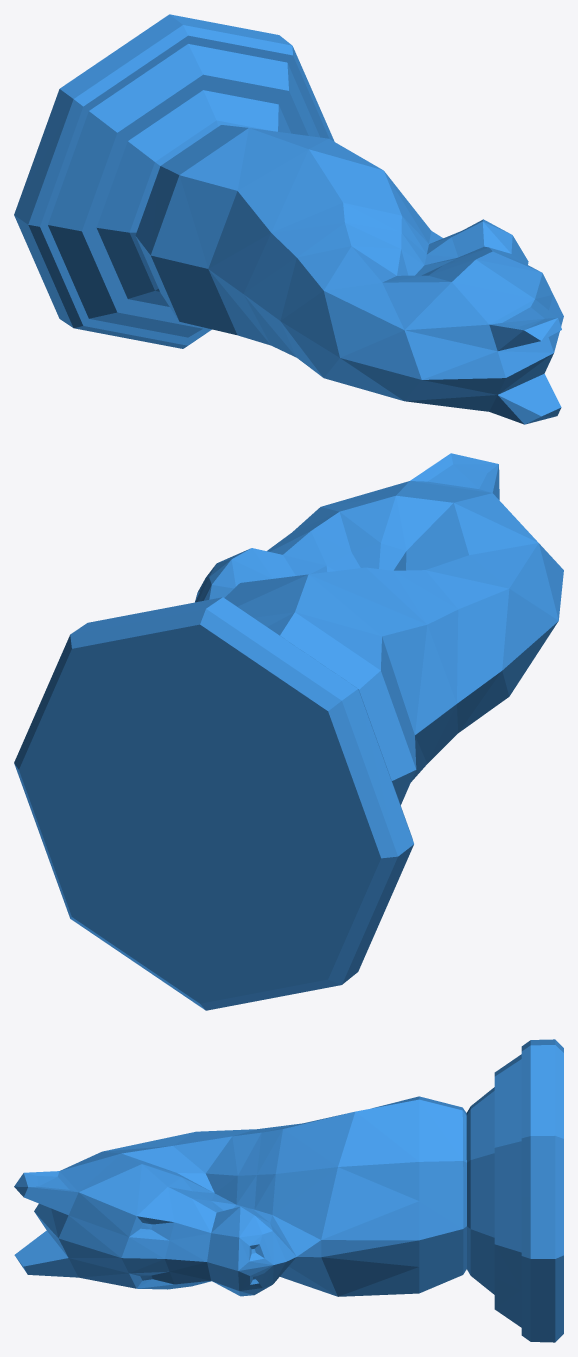
File: chess_horse.obj
3 renders of one model, top to bottom at view 1: azimuth 30°, elevation 25°; view 2: azimuth 150°, elevation 25°; view 3: azimuth 270°, elevation 25°, orthographic. The views are drawn at different scales.
Visible parts, largest first — view 1: Object.1; view 2: Object.1; view 3: Object.1.
Boxes of the visible parts, x1,y1,x2,y2 form: Object.1: (14, 14, 563, 424); Object.1: (14, 453, 563, 1010); Object.1: (14, 1039, 563, 1342).
Size of the model in its own units: 24.89 by 22.89 by 39.04.
